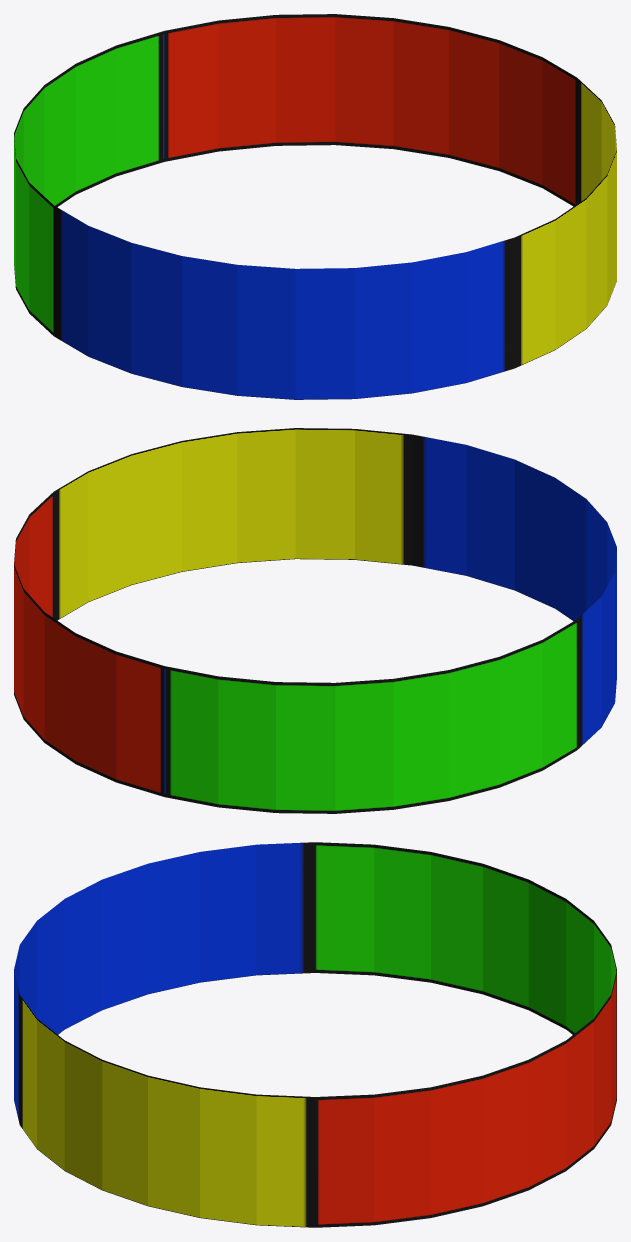
Rendered from RotarySign.obj.
The picture shows the model from 3 angles, top to bottom: view 1: azimuth 30°, elevation 25°; view 2: azimuth 150°, elevation 25°; view 3: azimuth 270°, elevation 25°; orthographic projection.
Visible parts, largest first — view 1: Cylinder; view 2: Cylinder; view 3: Cylinder.
Part boxes in pixels (x1=…): Cylinder: x1=14, y1=14, x2=616, y2=399; Cylinder: x1=14, y1=428, x2=616, y2=813; Cylinder: x1=14, y1=842, x2=616, y2=1227.
Size of the model in its own units: 2 by 0.4786 by 2.
1 material, 1 textured.
